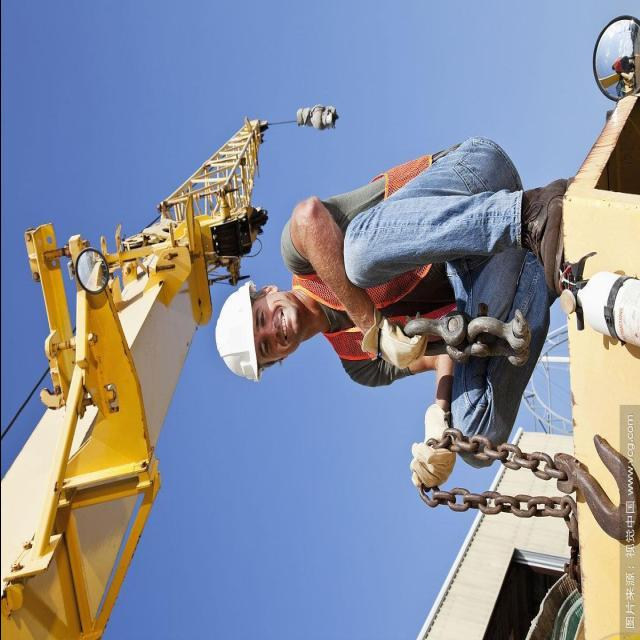helmet: (208, 280, 262, 408)
